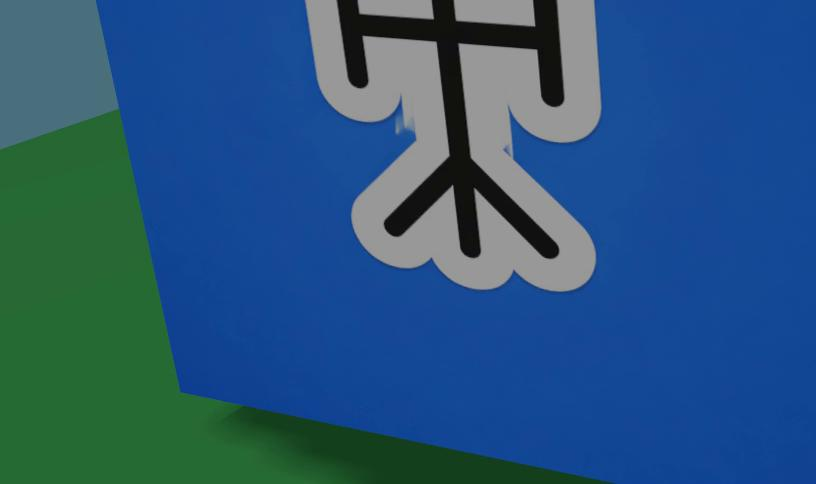KFS_REAL: (93, 0, 816, 483), (305, 0, 601, 290)
